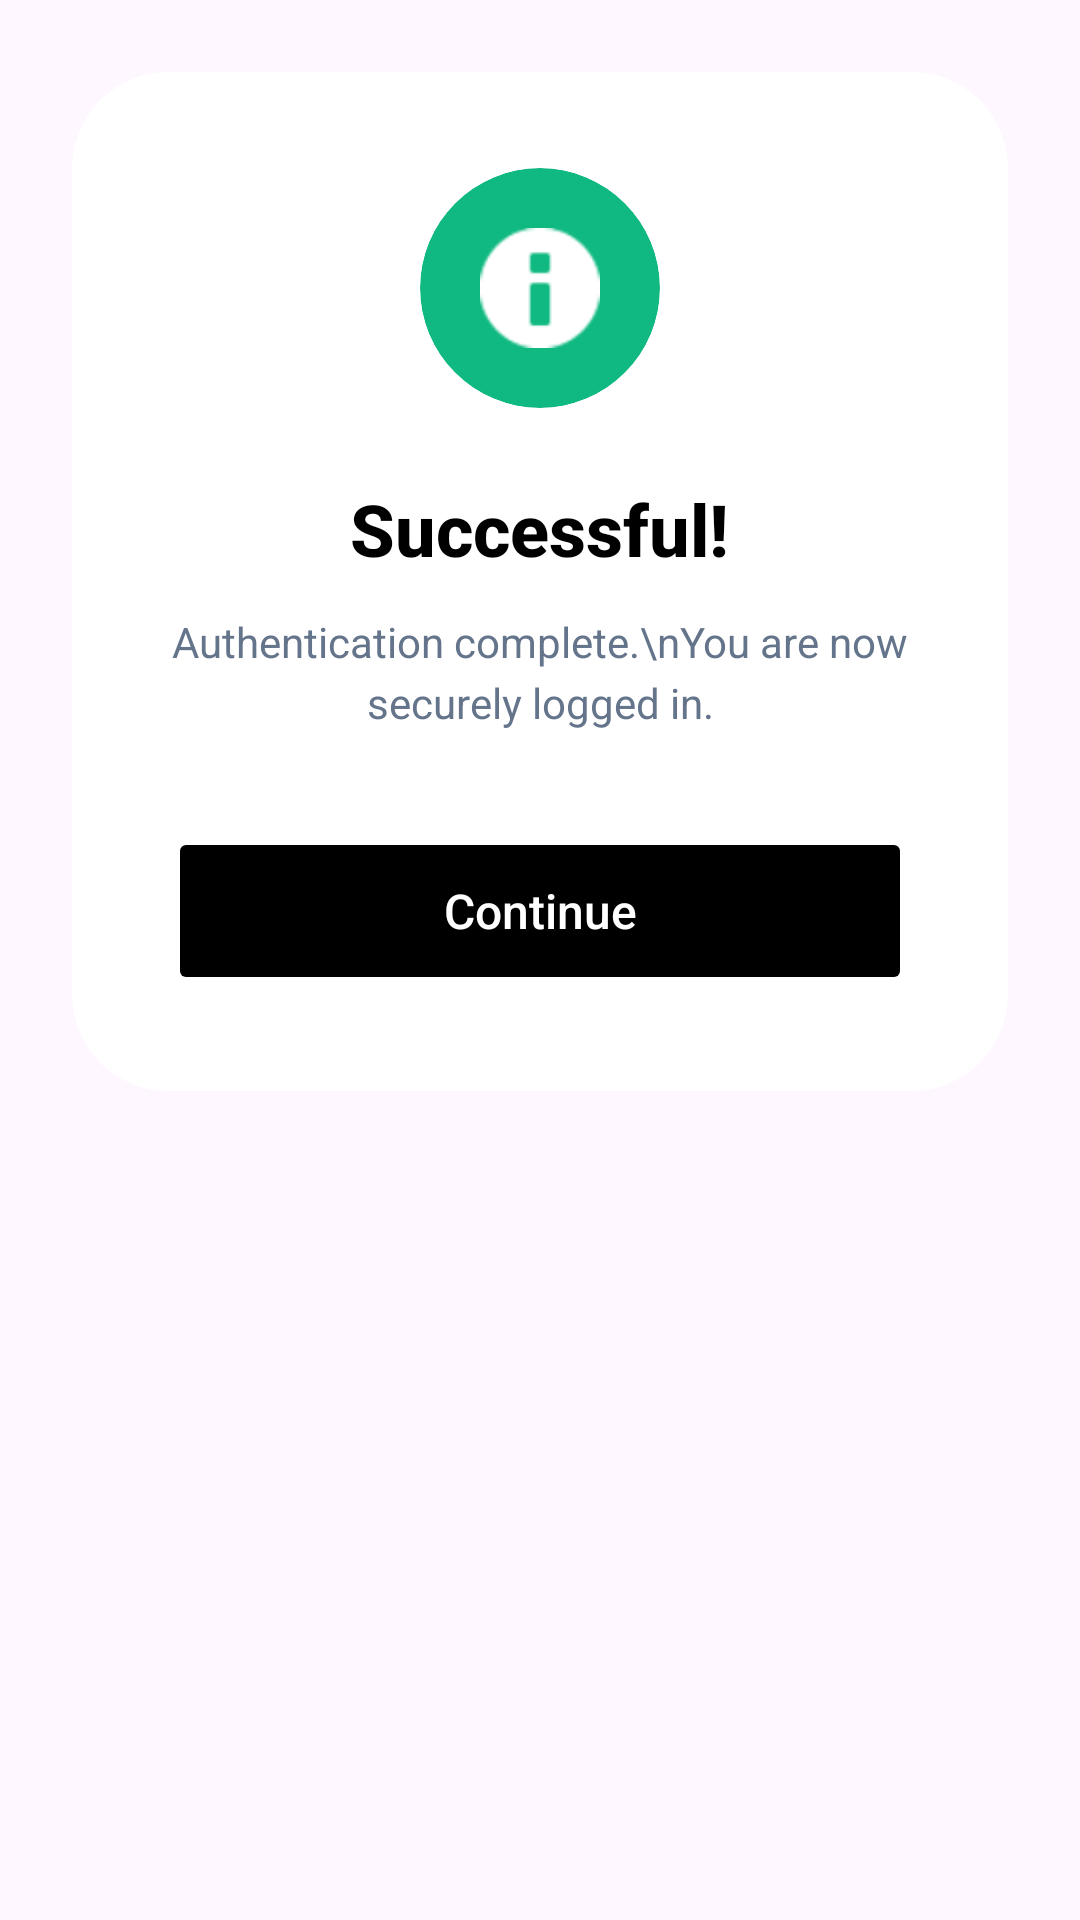

Icons on this 1080px x 1920px Android screen, each with its box as {"x1": x1, "y1": y1, "x2": x2, "y2": y2}:
info: {"x1": 480, "y1": 228, "x2": 600, "y2": 348}
